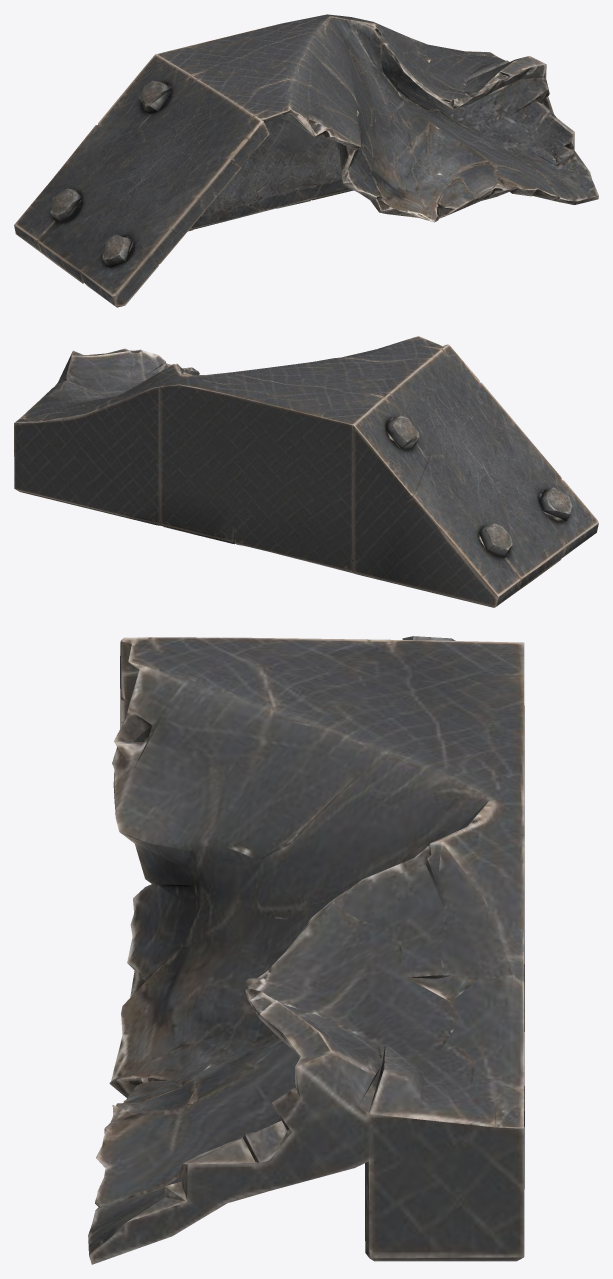
Rendered from shared_rubble_kit__girder_small_folded_lod1.glb.
The picture shows the model from 3 angles, top to bottom: view 1: azimuth 30°, elevation 25°; view 2: azimuth 150°, elevation 25°; view 3: azimuth 270°, elevation 25°; orthographic projection. The views are drawn at different scales.
Visible parts, largest first — view 1: mesh_node; view 2: mesh_node; view 3: mesh_node.
Boxes of the visible parts, left/top/right/bottom form: mesh_node: left=14, top=14, right=598, bottom=307; mesh_node: left=14, top=336, right=598, bottom=607; mesh_node: left=88, top=636, right=524, bottom=1264.
Bounding box in the file's own units: 1.83 × 0.5702 × 0.724.
1 material, 1 textured.
